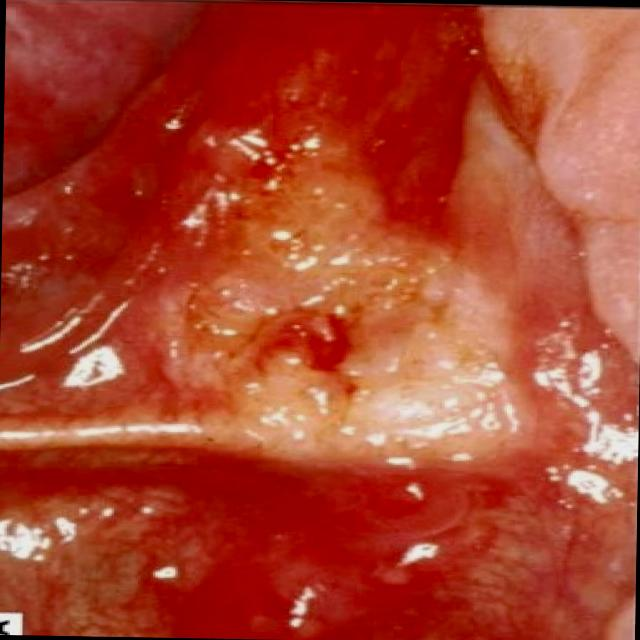Cancer: (173, 118, 479, 463)
